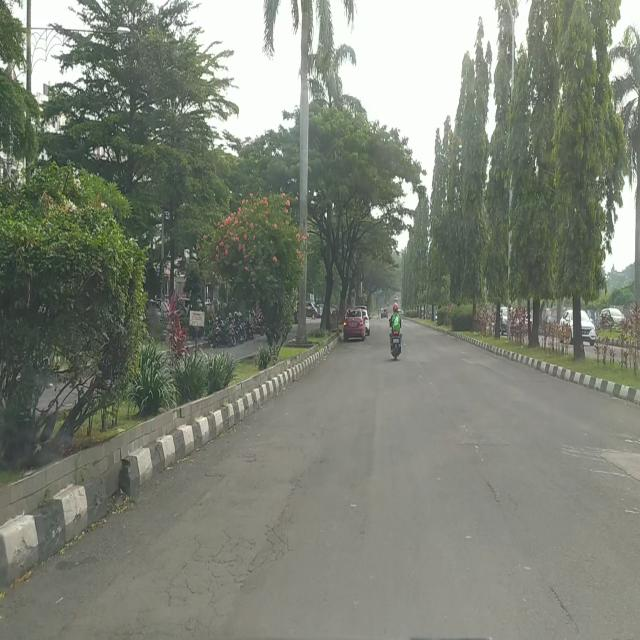Drain Hole: (133, 514, 286, 640)
